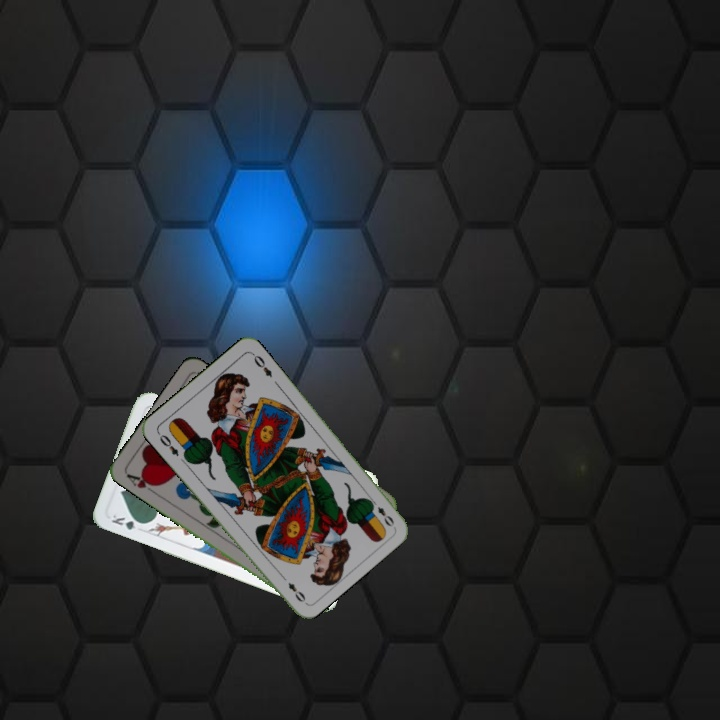EO: (366, 495, 397, 529), (154, 429, 181, 459)
GK: (107, 510, 147, 533)
HA: (122, 470, 160, 497)
